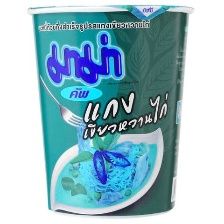paper_cup: (20, 0, 199, 221)
